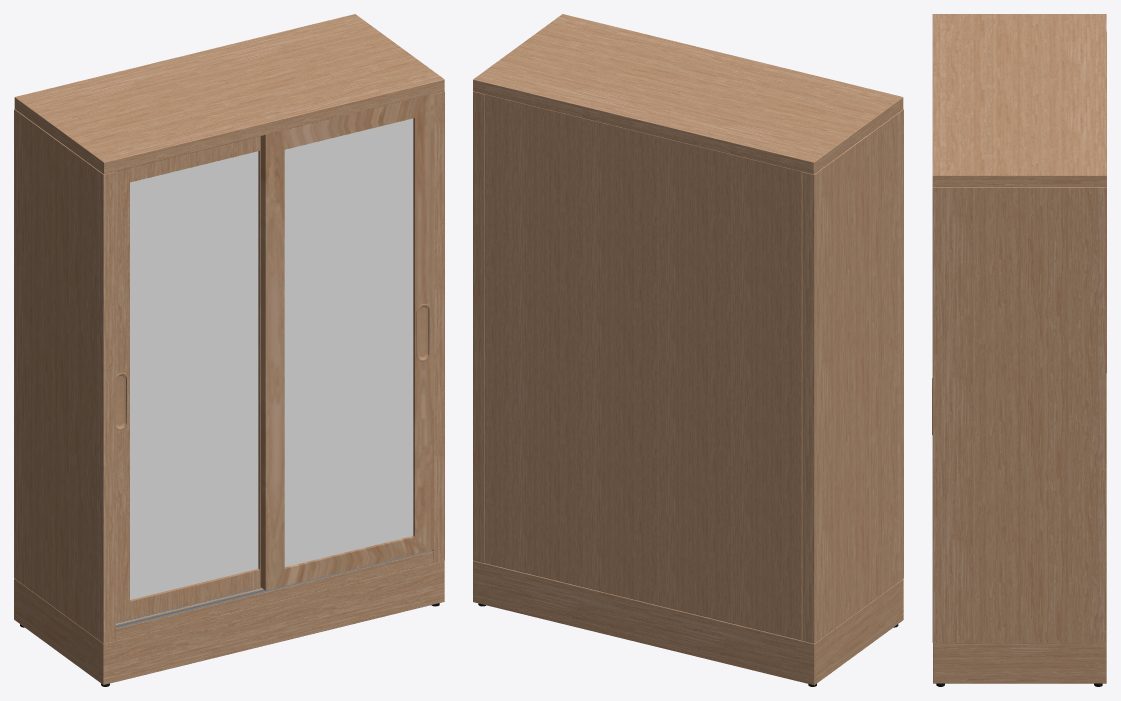
Rendered from GlassCabinet.glb.
3 views of the same model, side by side, from view 1: azimuth 30°, elevation 25°; view 2: azimuth 150°, elevation 25°; view 3: azimuth 270°, elevation 25° (orthographic). The views are drawn at different scales.
Parts seen in each view (by area): view 1: Cube.001; view 2: Cube.001; view 3: Cube.001.
Boxes of the visible parts, box(x1,y1,x2,y2) form: Cube.001: box(14, 14, 444, 686); Cube.001: box(473, 14, 903, 686); Cube.001: box(932, 14, 1106, 686).
Bounding box in the file's own units: 0.817 × 1.21 × 0.3724.
Materials: 4 (1 with a texture image).
